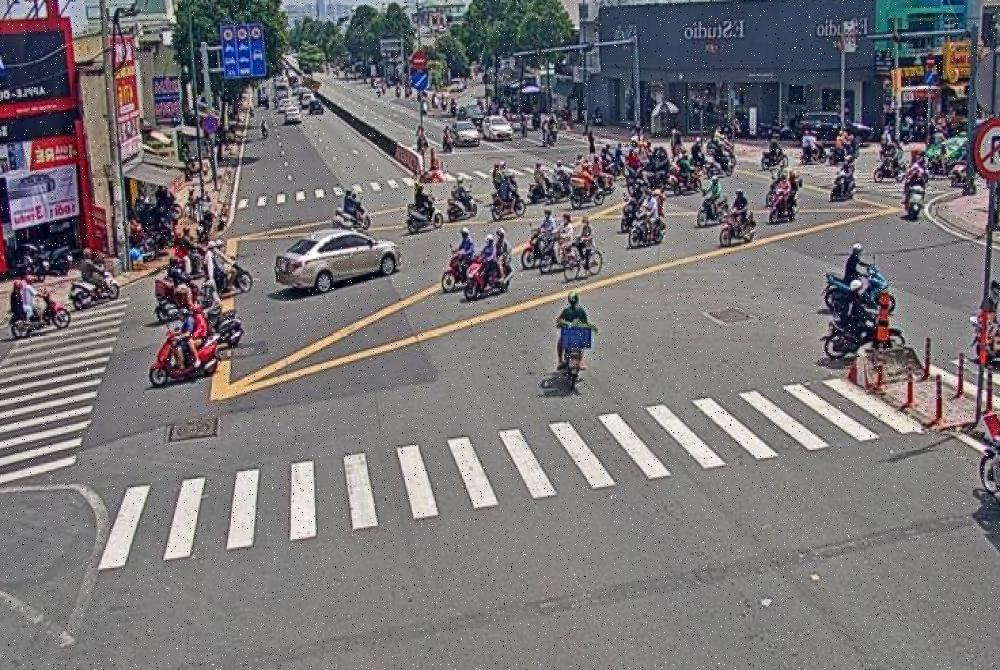car: (269, 233, 398, 296), (445, 124, 479, 150), (483, 120, 516, 142)
motorbike: (148, 311, 223, 386)
